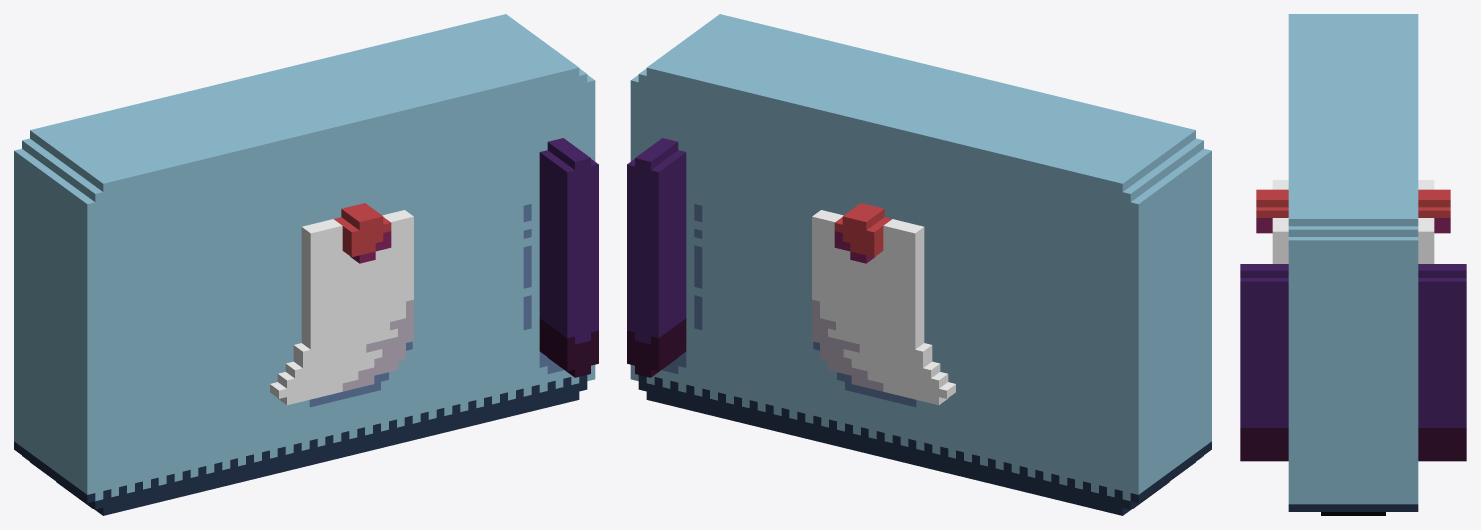
Rendered from buzdolabi_ust_kisim.fbx.
3 views of the same model, side by side, from view 1: azimuth 30°, elevation 25°; view 2: azimuth 150°, elevation 25°; view 3: azimuth 270°, elevation 25° (orthographic). The views are drawn at different scales.
Visible parts, largest first — view 1: generated; view 2: generated; view 3: generated.
Boxes of the visible parts, x1,y1,x2,y2 form: generated: (14,14,598,515); generated: (627,14,1211,515); generated: (1240,14,1466,515).
Bounding box in the file's own units: 640 × 410 × 280.
